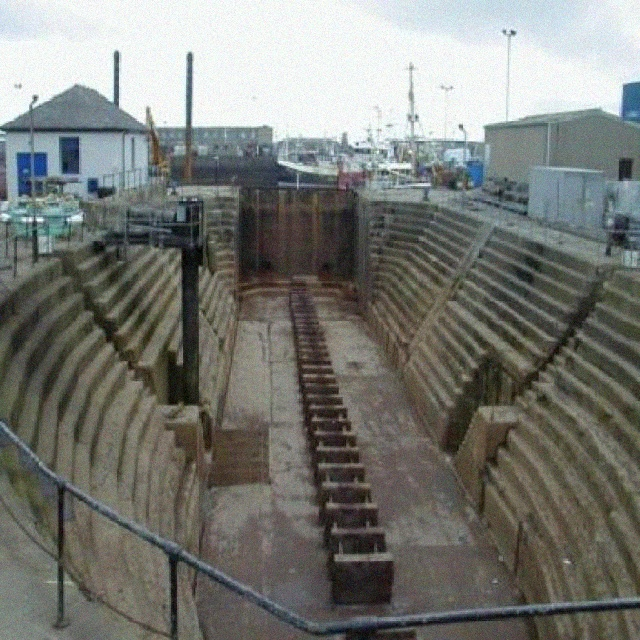stair: (363, 197, 640, 640), (0, 186, 243, 640)
